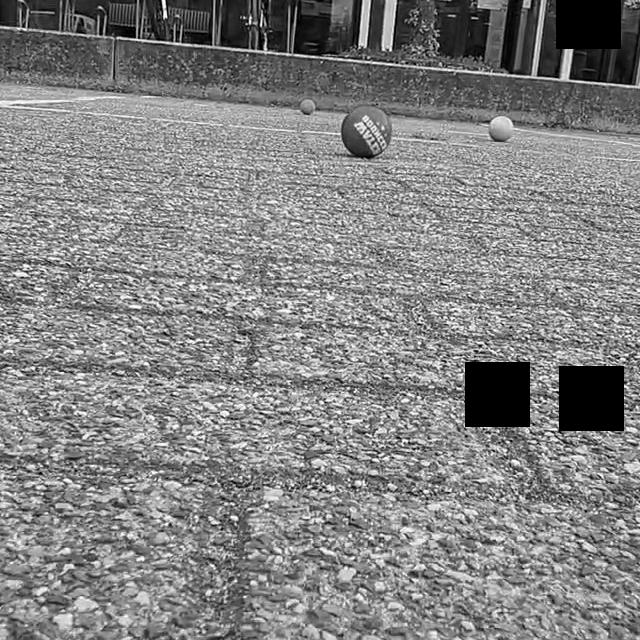ball: (486, 114, 514, 143)
